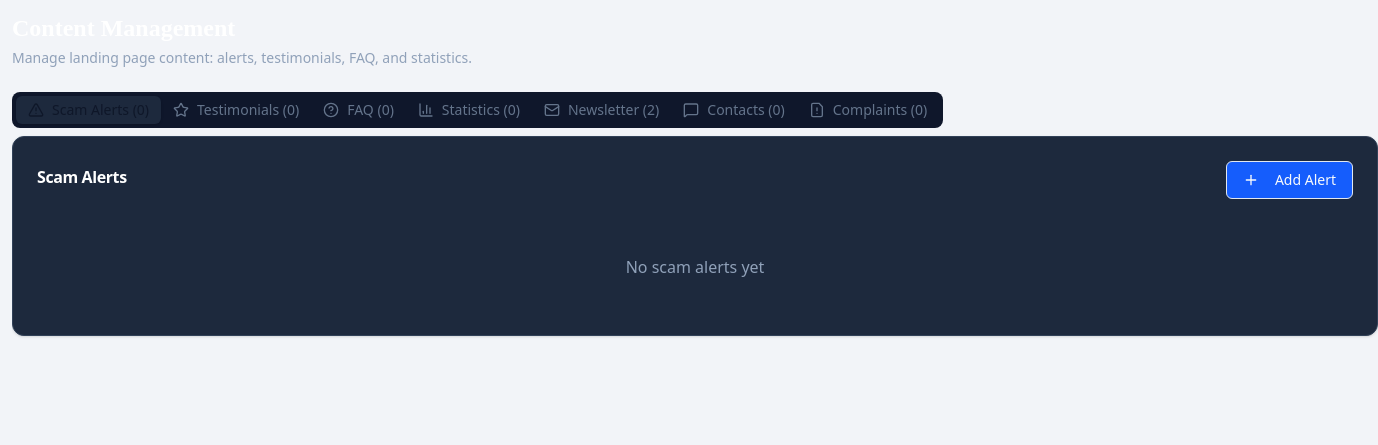
Scenario: ContentManagement — Export CSV button selection-aware behaviour › after selecting one row the button label shows 'Export selected (1)'
Click the tab with test id "content-tab-newsletter". click: [602, 110]
box: [532,96,671,124]
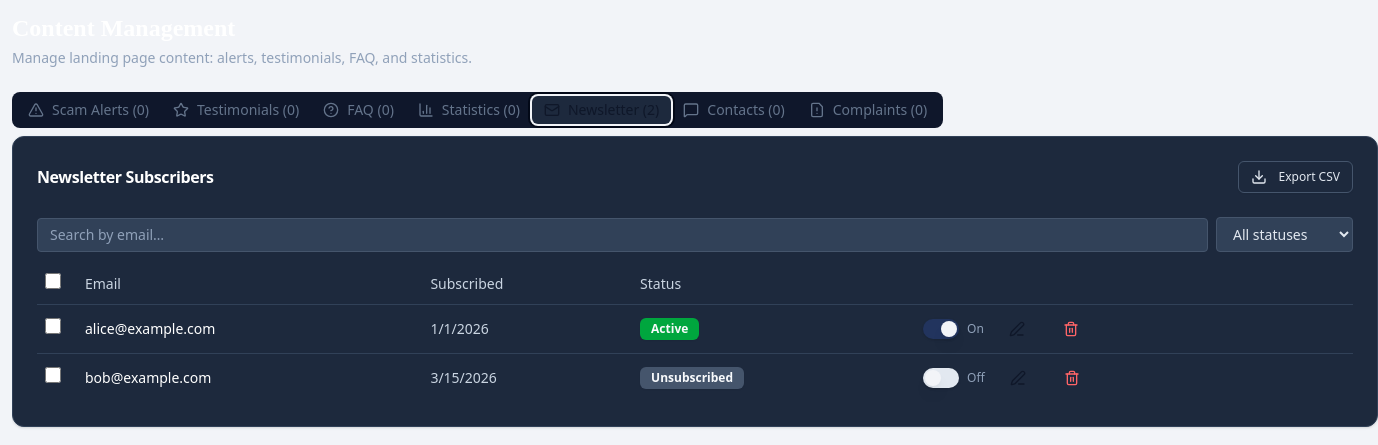
Click the checkbox with test id "checkbox-newsletter-1". click: [53, 326]
box: [45,318,61,334]
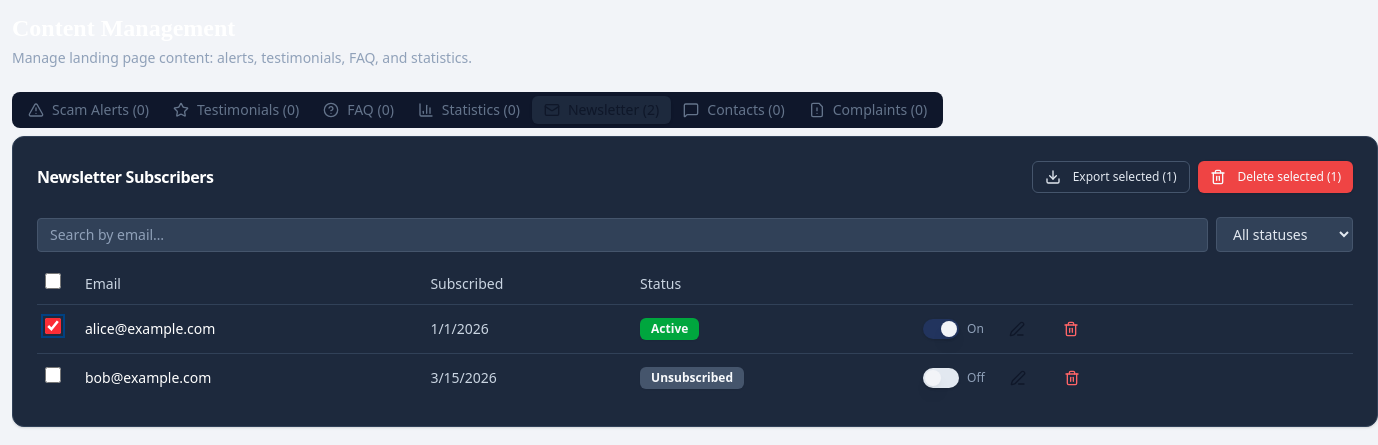
Now the button with test id "button-export-newsletter-csv" reads "Export selected (1)", box [1032,161,1190,193]
